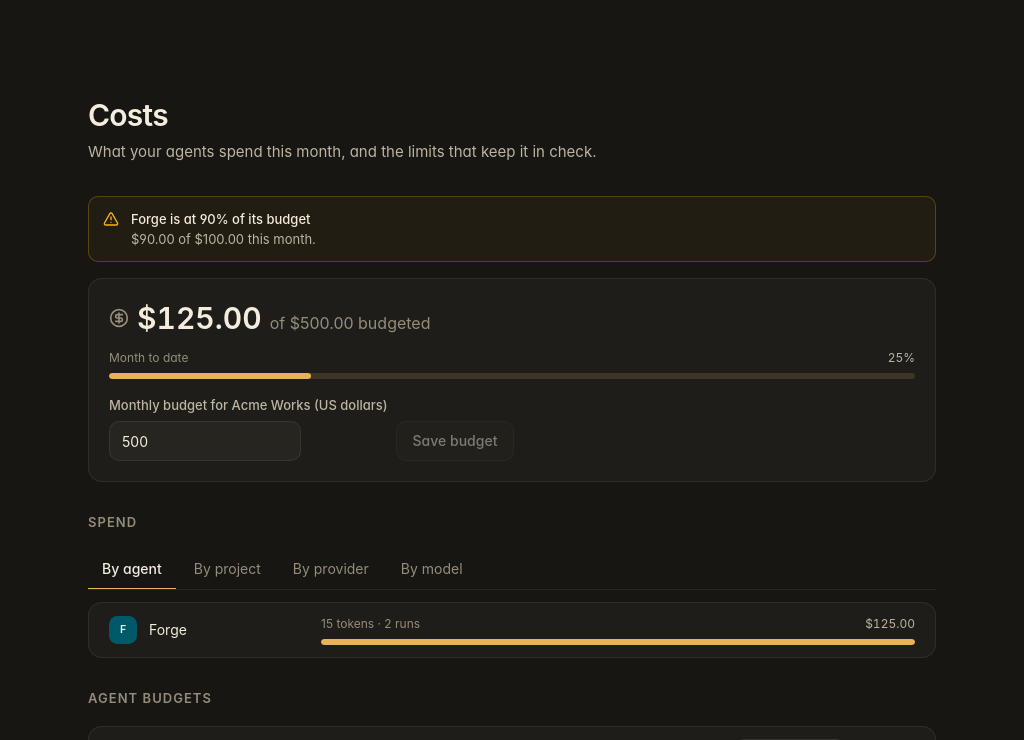
Test: costs and settings › shows spend by project and provider, alerts, and saves a budget in cents through /budgets
Later steps or results of the test are not shown.
Expected: the text "$125.00" next to "of $500.00 budgeted" is shown, x1=137 y1=300 x2=262 y2=336
Expected: the text "Forge is at 90% of its budget" is shown, x1=131 y1=211 x2=310 y2=227
Step 1. Click the tab "By project" → (227, 570), box x1=180 y1=550 x2=275 y2=590
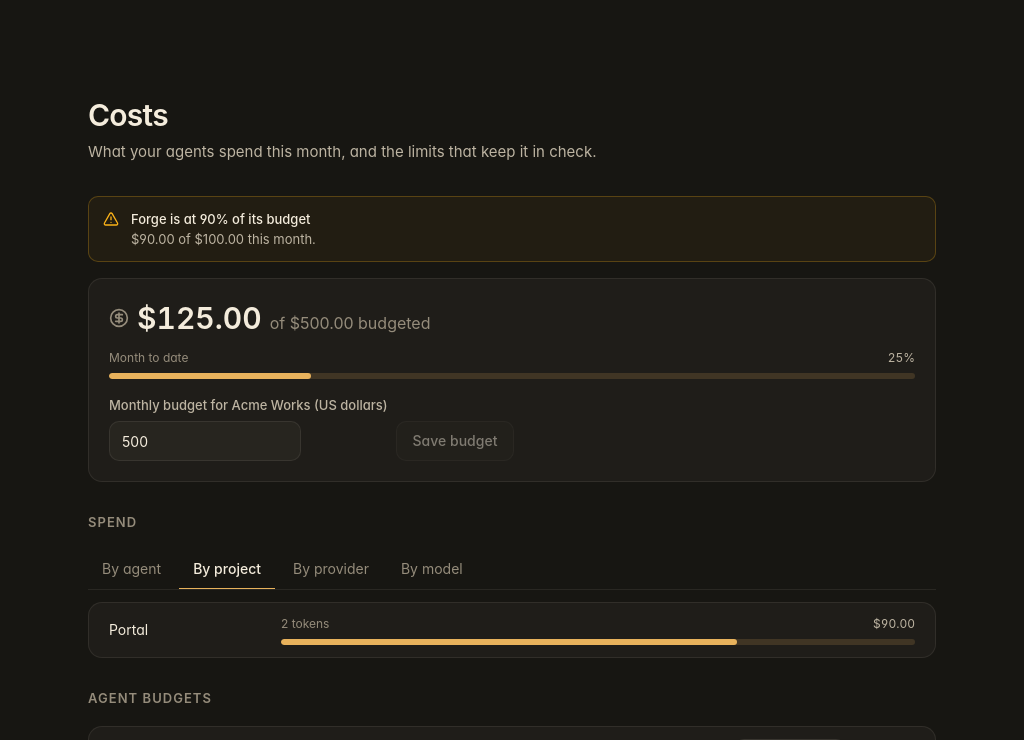
Result: the text "Portal" is shown at x1=109 y1=621 x2=148 y2=638
Step 2. Click the tab "By provider" → (331, 570), box x1=279 y1=550 x2=383 y2=590
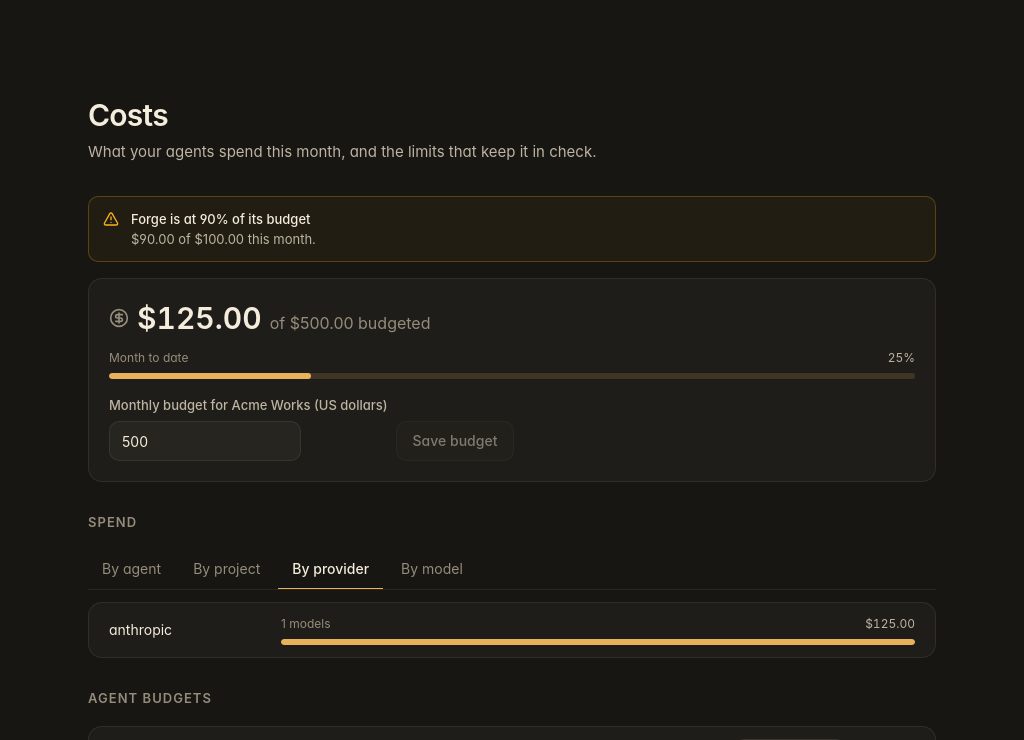
Result: the text "anthropic" is shown at x1=109 y1=621 x2=172 y2=638
